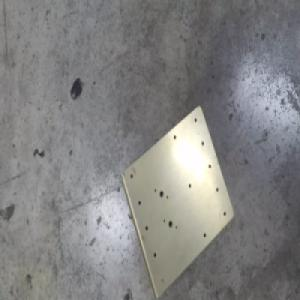MetalSheet: (119, 104, 234, 299)
